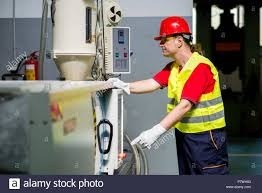helmet: (152, 14, 194, 43)
person with full safety: (152, 13, 230, 173)
safety vest: (166, 54, 226, 134)
